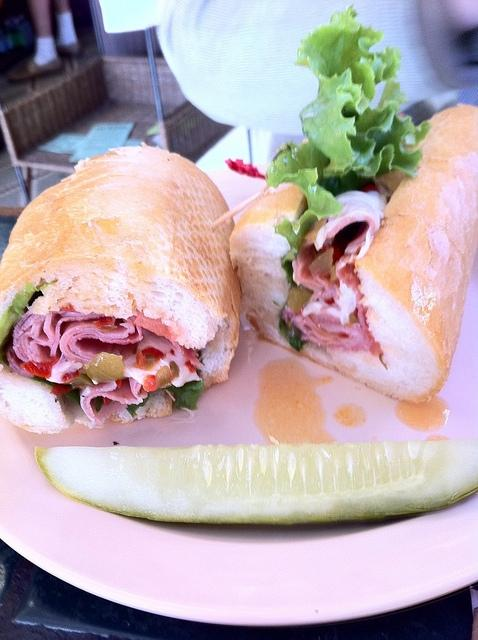lettuce: (266, 146, 341, 286), (300, 66, 370, 178), (0, 328, 81, 406), (165, 380, 204, 410)
